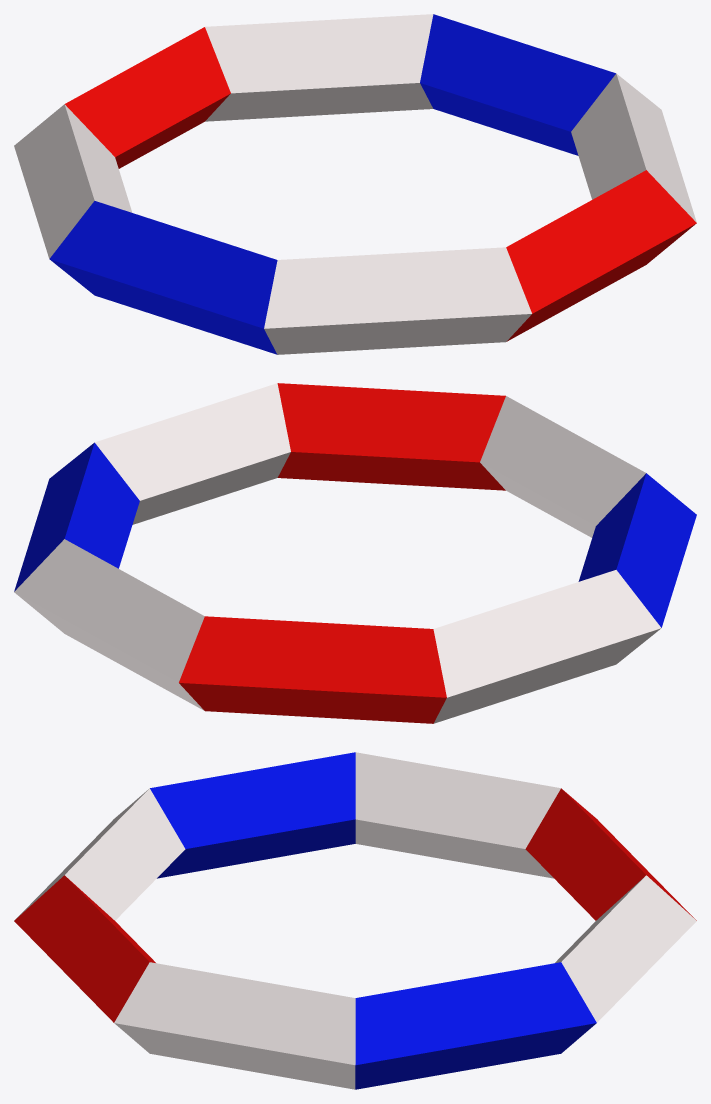
The model's file is Ring_1.fbx.
The picture shows the model from 3 angles, top to bottom: view 1: azimuth 30°, elevation 25°; view 2: azimuth 150°, elevation 25°; view 3: azimuth 270°, elevation 25°; orthographic projection. The views are drawn at different scales.
Parts seen in each view (by area): view 1: Ring_1; view 2: Ring_1; view 3: Ring_1.
Part boxes in pixels (x1=…): Ring_1: x1=14, y1=14, x2=696, y2=354; Ring_1: x1=14, y1=383, x2=696, y2=723; Ring_1: x1=14, y1=752, x2=696, y2=1089.
Size of the model in its own units: 3.58 by 0.53 by 3.58.
